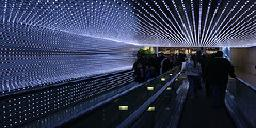LED: (5, 14, 116, 74)
